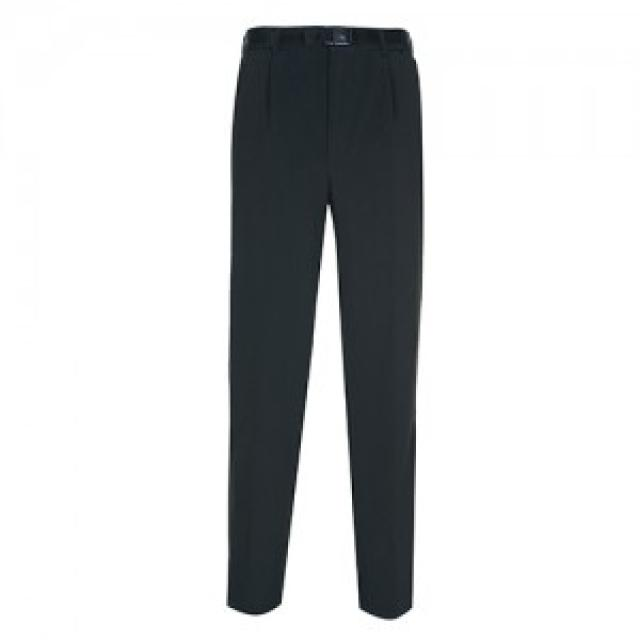pants: (221, 22, 427, 620)
